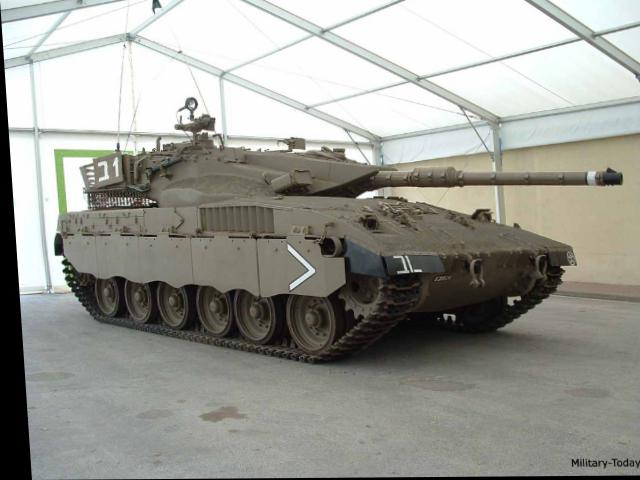tank: (29, 119, 572, 364)
